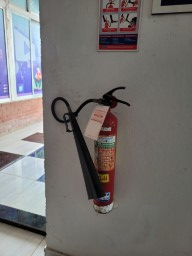fire_extinguisher: (83, 98, 161, 133)
